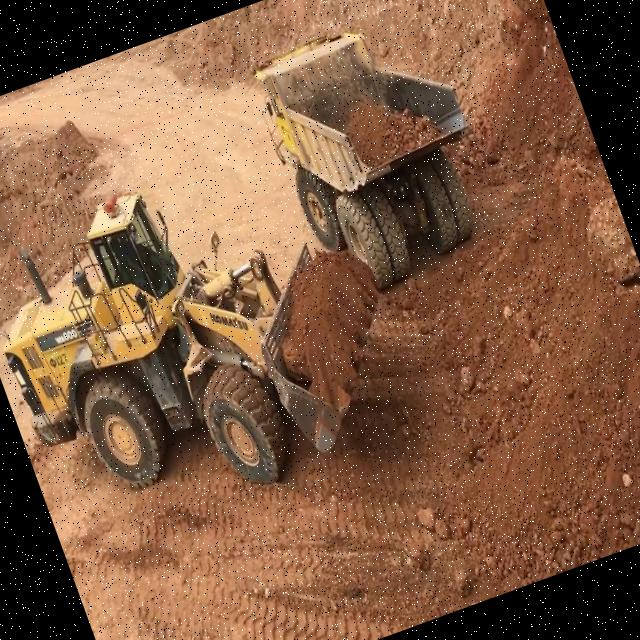Dump Truck: (238, 0, 514, 308)
Loader: (0, 112, 434, 568)
